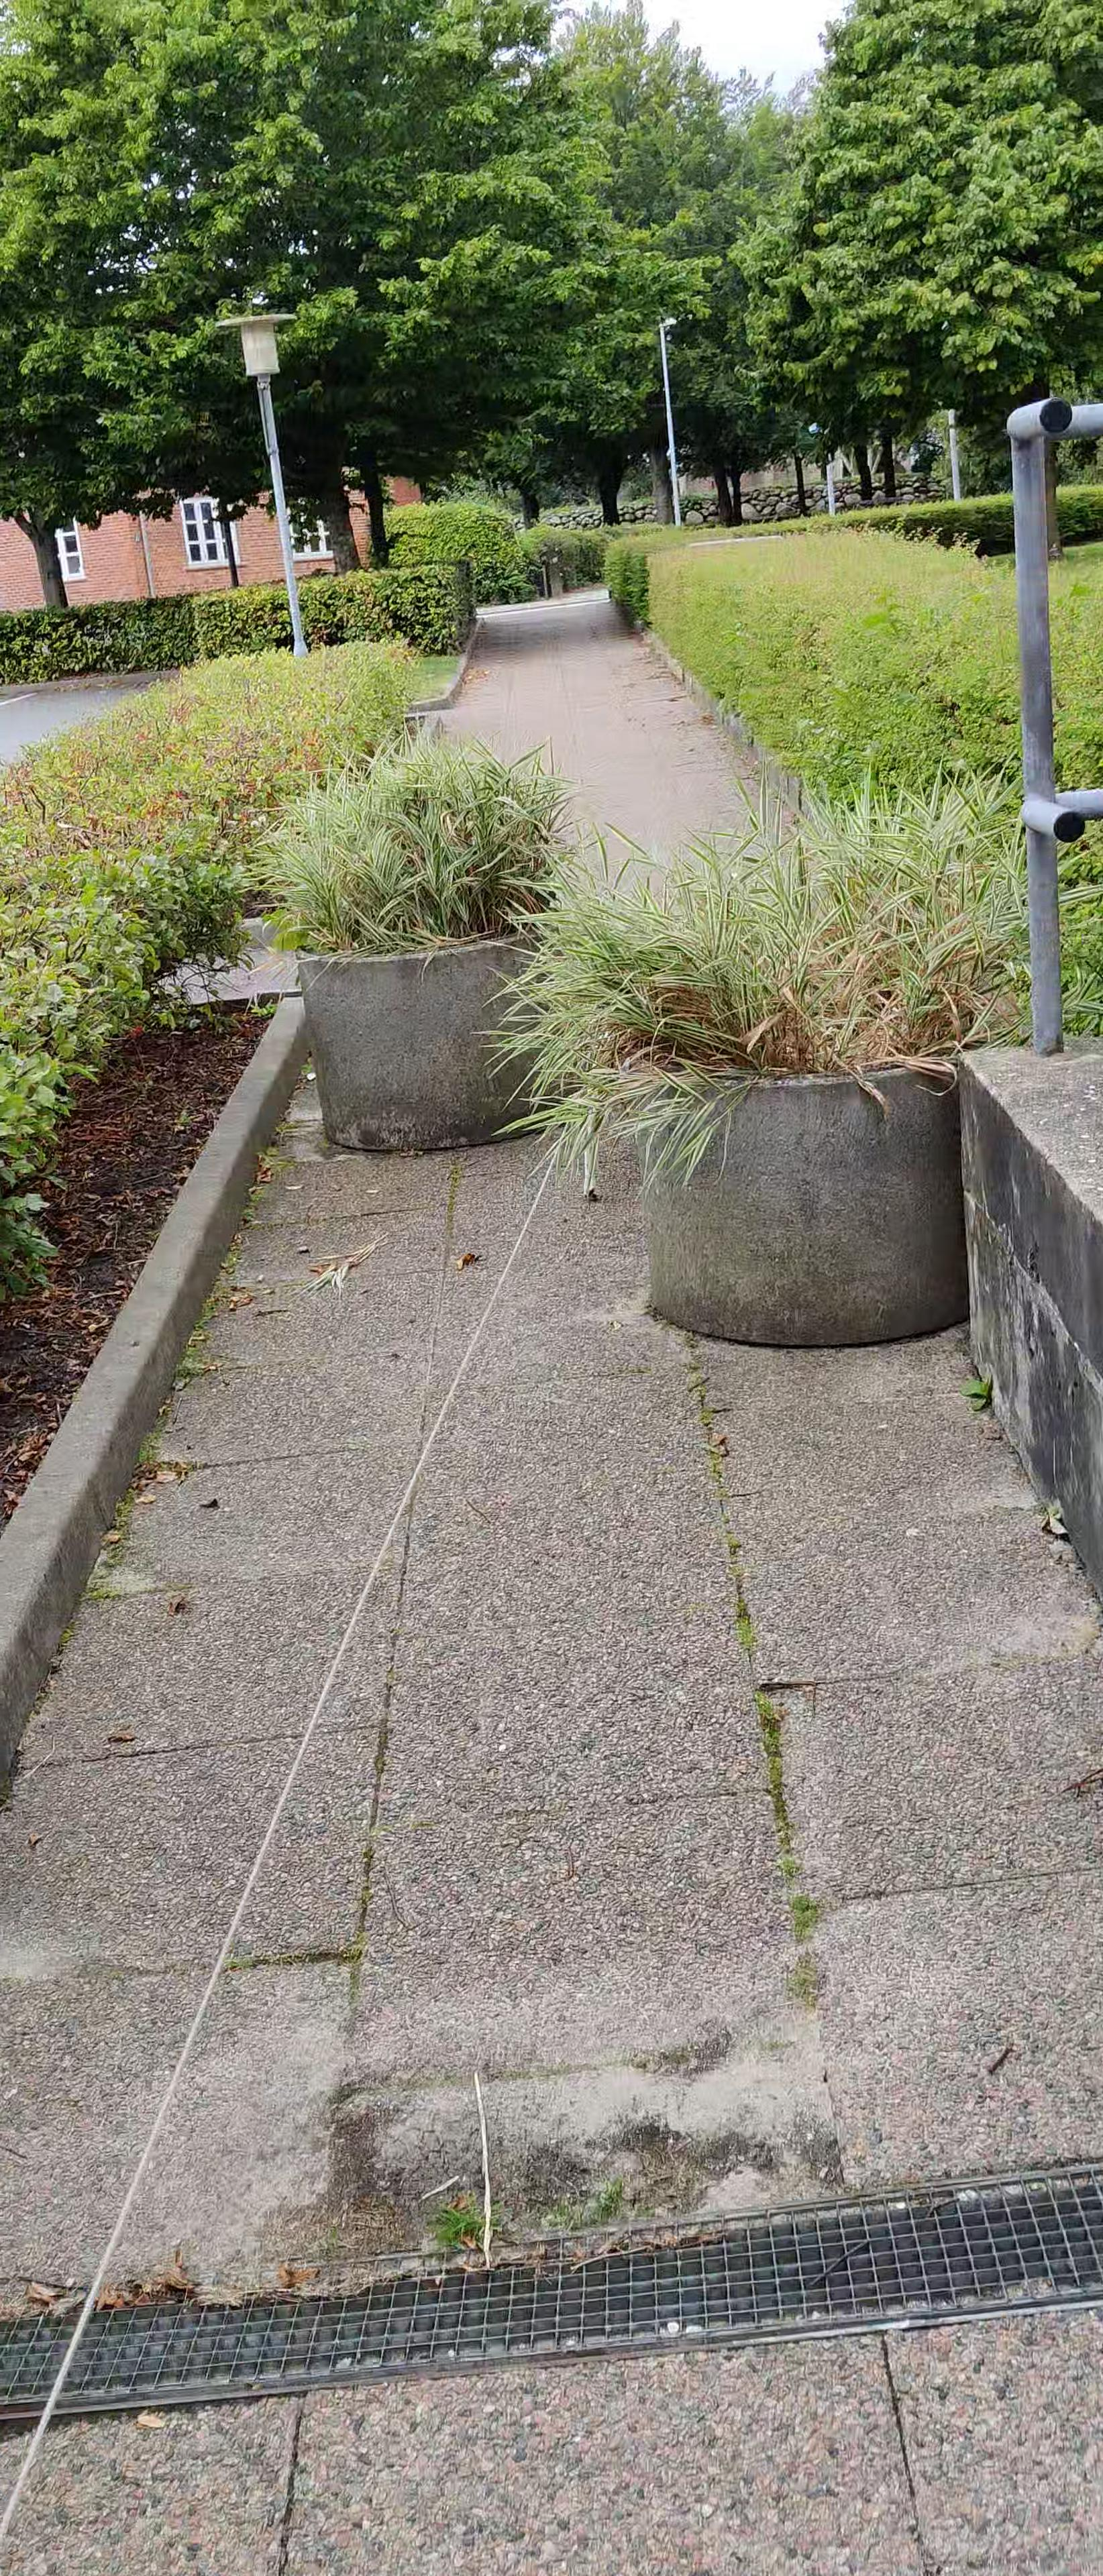Dog: (562, 1065, 620, 1204)
